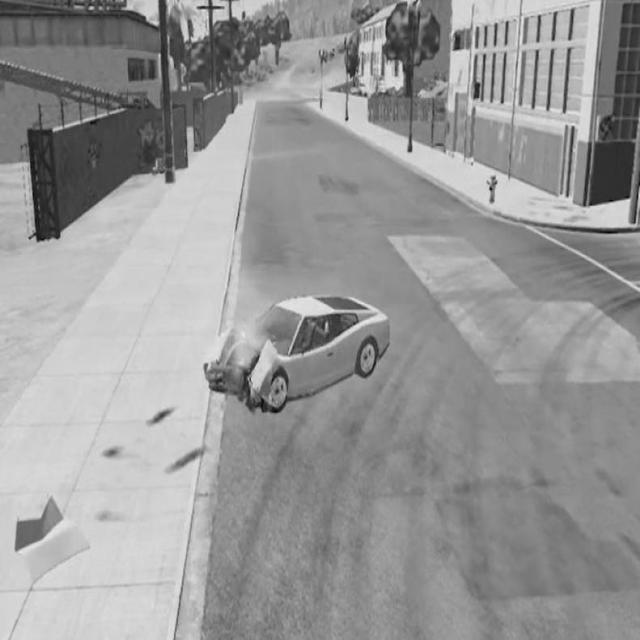accident: (200, 288, 394, 420)
